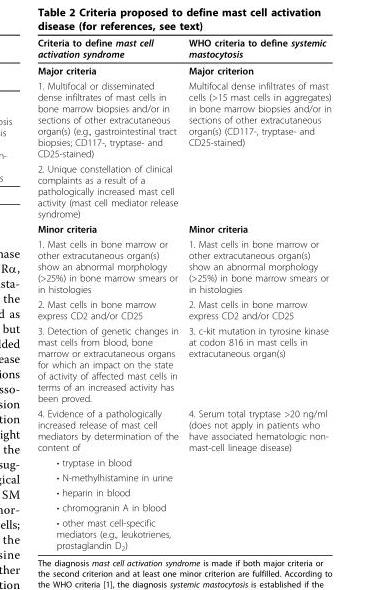table: (36, 36, 330, 551)
table column: (182, 36, 330, 551), (36, 36, 182, 551)
table column header: (36, 36, 330, 61)
table projected row header: (36, 160, 330, 220), (36, 454, 330, 469), (36, 469, 330, 484), (36, 484, 330, 499), (36, 499, 330, 514)
table row: (36, 77, 330, 160), (36, 322, 330, 405), (36, 160, 330, 220), (36, 236, 330, 296), (36, 405, 330, 454), (36, 514, 330, 551), (36, 296, 330, 322), (36, 36, 330, 61), (36, 61, 330, 77), (36, 220, 330, 236), (36, 454, 330, 469), (36, 469, 330, 484), (36, 484, 330, 499), (36, 499, 330, 514)
